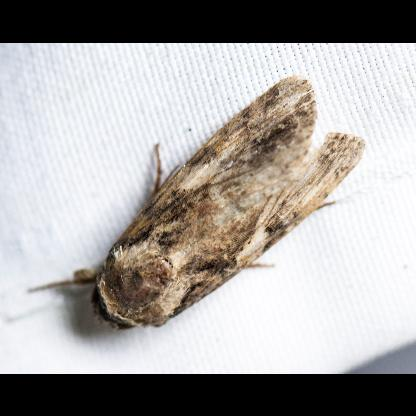Fall Armyworm Moth: (25, 69, 369, 336)
